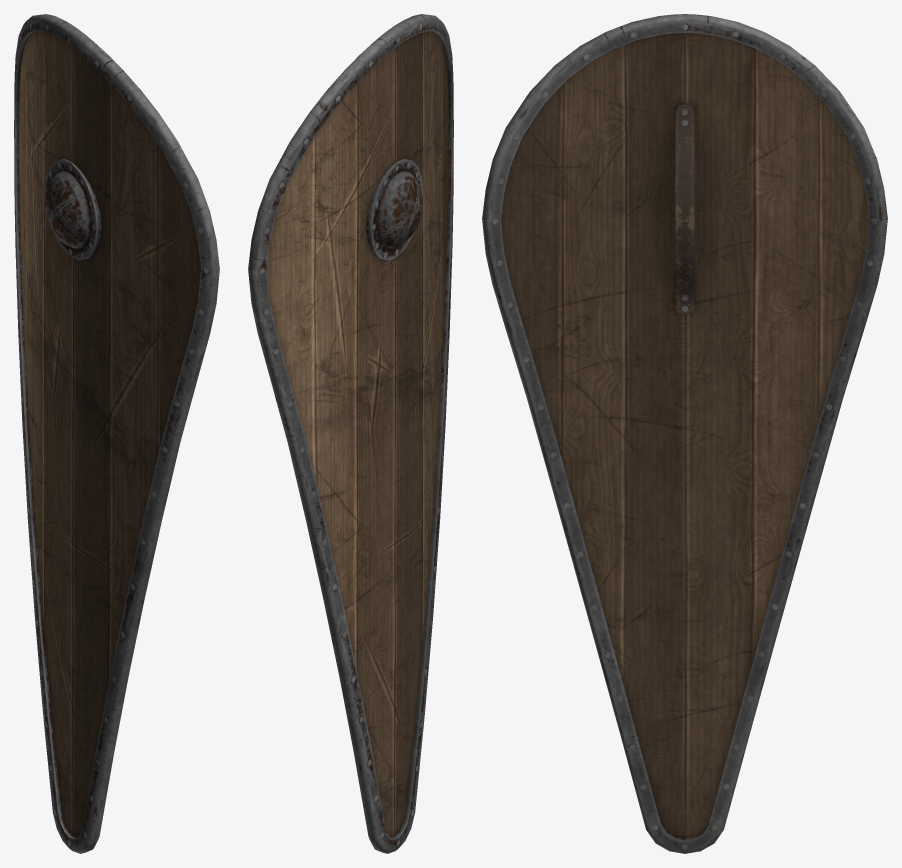
Rendered from SM_Shield.fbx.
The picture shows the model from 3 angles, left to right: view 1: azimuth 30°, elevation 25°; view 2: azimuth 150°, elevation 25°; view 3: azimuth 270°, elevation 25°; orthographic projection. The views are drawn at different scales.
Parts seen in each view (by area): view 1: SM_Shield_LOD0; view 2: SM_Shield_LOD0; view 3: SM_Shield_LOD0.
Boxes of the visible parts, x1,y1,x2,y2 form: SM_Shield_LOD0: (14,14,219,853); SM_Shield_LOD0: (248,14,453,853); SM_Shield_LOD0: (482,14,887,853).
Size of the model in its own units: 10.21 by 50.55 by 115.
Materials: 1 (1 with a texture image).
